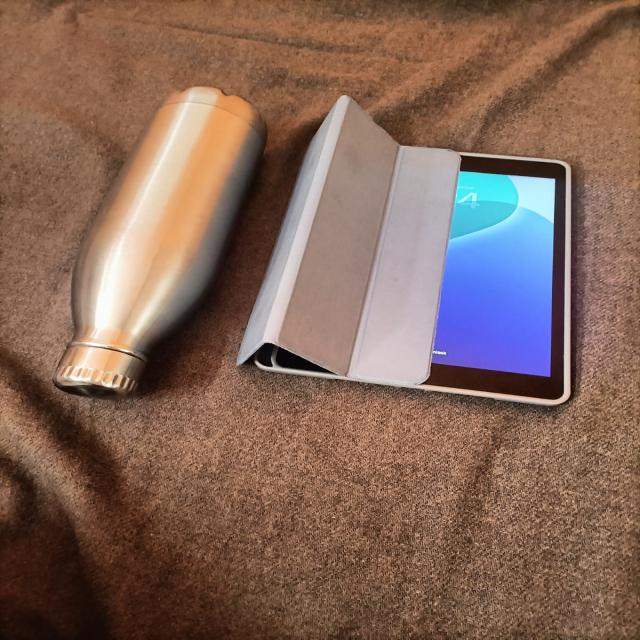bottle: (32, 68, 270, 420)
tablet: (234, 83, 566, 423)
